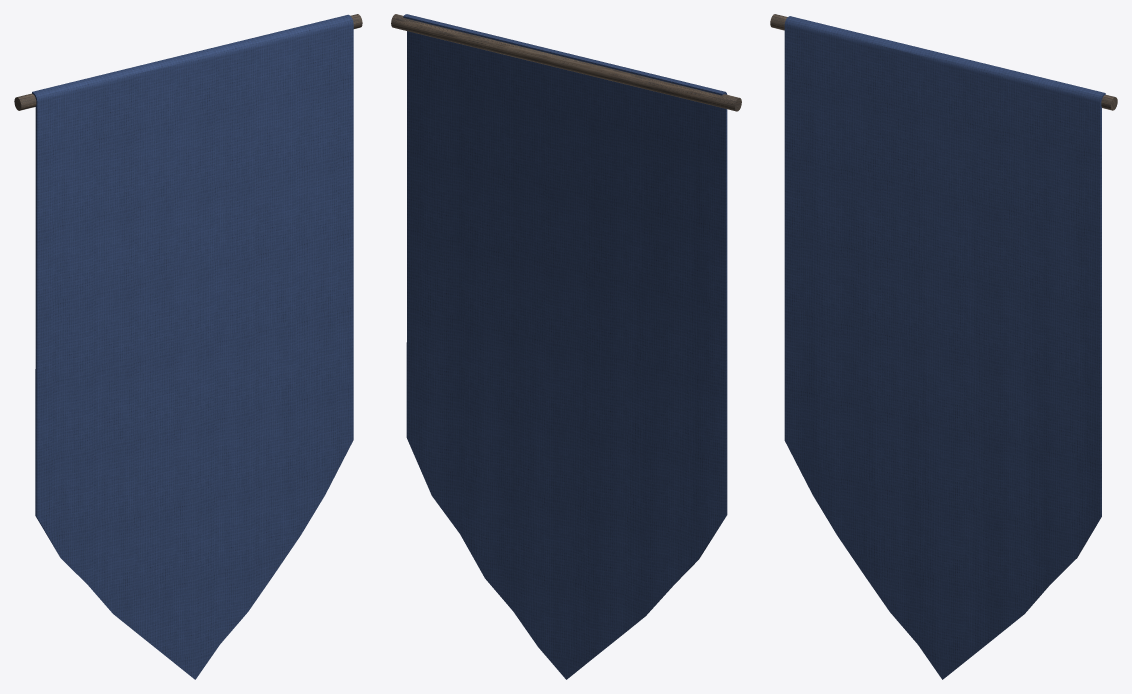
Rendered from tapestry.glb.
3 renders of one model, left to right at view 1: azimuth 30°, elevation 25°; view 2: azimuth 150°, elevation 25°; view 3: azimuth 330°, elevation 25°, orthographic.
Visible parts, largest first — view 1: Tapestry_Fabric_0; view 2: Tapestry_Fabric_0; view 3: Tapestry_Fabric_0.
Boxes of the visible parts, <box> form: Tapestry_Fabric_0: <box>14,14,362,679</box>; Tapestry_Fabric_0: <box>391,14,741,679</box>; Tapestry_Fabric_0: <box>770,14,1117,679</box>.
Size of the model in its own units: 0.3747 by 0.6539 by 0.0147.
Materials: 2 (2 with a texture image).
